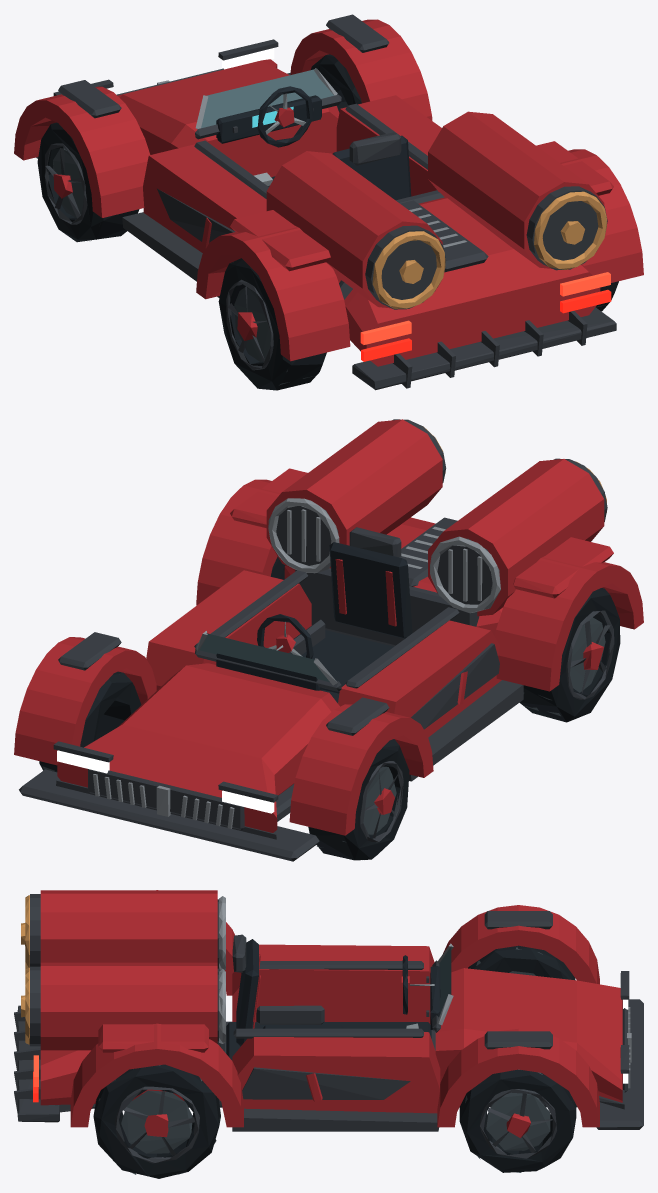
The model's file is ignis_lod1.glb.
3 views of the same model, one above another, from view 1: azimuth 30°, elevation 25°; view 2: azimuth 150°, elevation 25°; view 3: azimuth 270°, elevation 25° (orthographic). The views are drawn at different scales.
Visible parts, largest first — view 1: body_mesh, wheel_rl, wheel_fl, steering_wheel, light_tail_mesh, light_brake_mesh, wheel_fr, light_head_mesh; view 2: body_mesh, wheel_rl, wheel_fl, wheel_fr, light_head_mesh, steering_wheel; view 3: body_mesh, wheel_rr, wheel_fr, wheel_fl.
Boxes of the visible parts, <box> form: body_mesh: <box>14,14,643,390</box>; wheel_rl: <box>218,258,326,390</box>; wheel_fl: <box>37,122,139,242</box>; steering_wheel: <box>257,86,313,147</box>; light_tail_mesh: <box>360,272,610,344</box>; light_brake_mesh: <box>361,289,611,361</box>; wheel_fr: <box>311,54,361,112</box>; light_head_mesh: <box>107,48,274,89</box>; body_mesh: <box>14,419,643,861</box>; wheel_rl: <box>519,588,620,722</box>; wheel_fl: <box>308,739,409,860</box>; wheel_fr: <box>39,671,141,772</box>; light_head_mesh: <box>57,750,274,813</box>; steering_wheel: <box>257,614,313,658</box>; body_mesh: <box>14,890,643,1131</box>; wheel_rr: <box>93,1064,220,1178</box>; wheel_fr: <box>459,1069,576,1172</box>; wheel_fl: <box>468,945,575,980</box>.
Bounding box in the file's own units: 2.06 × 1.07 × 3.45.
